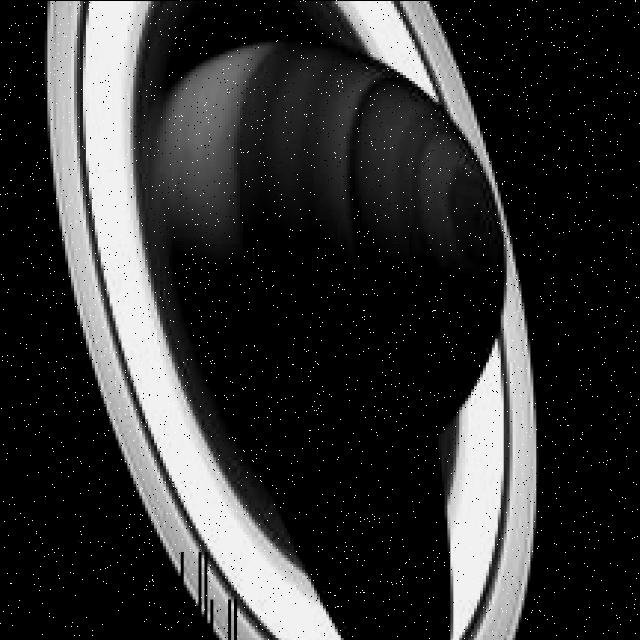Saturn: (44, 0, 540, 640)
